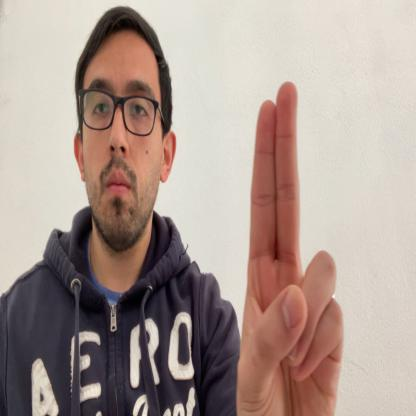U: (236, 79, 344, 415)
